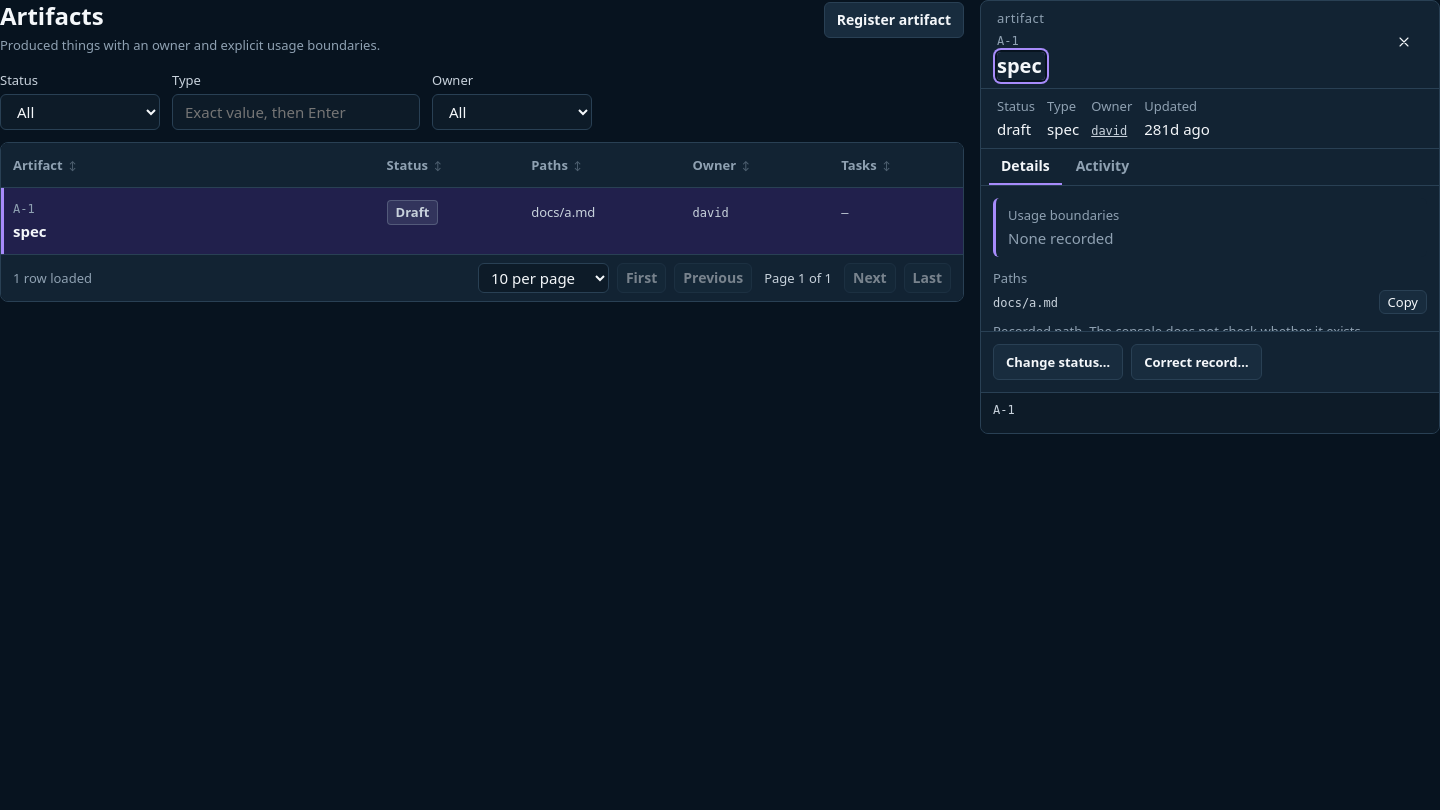
Scenario: the artifact status dialog › returns focus to its opener after Cancel
Click the button "Change status…".
click(1058, 362)  # box [993, 344, 1123, 380]
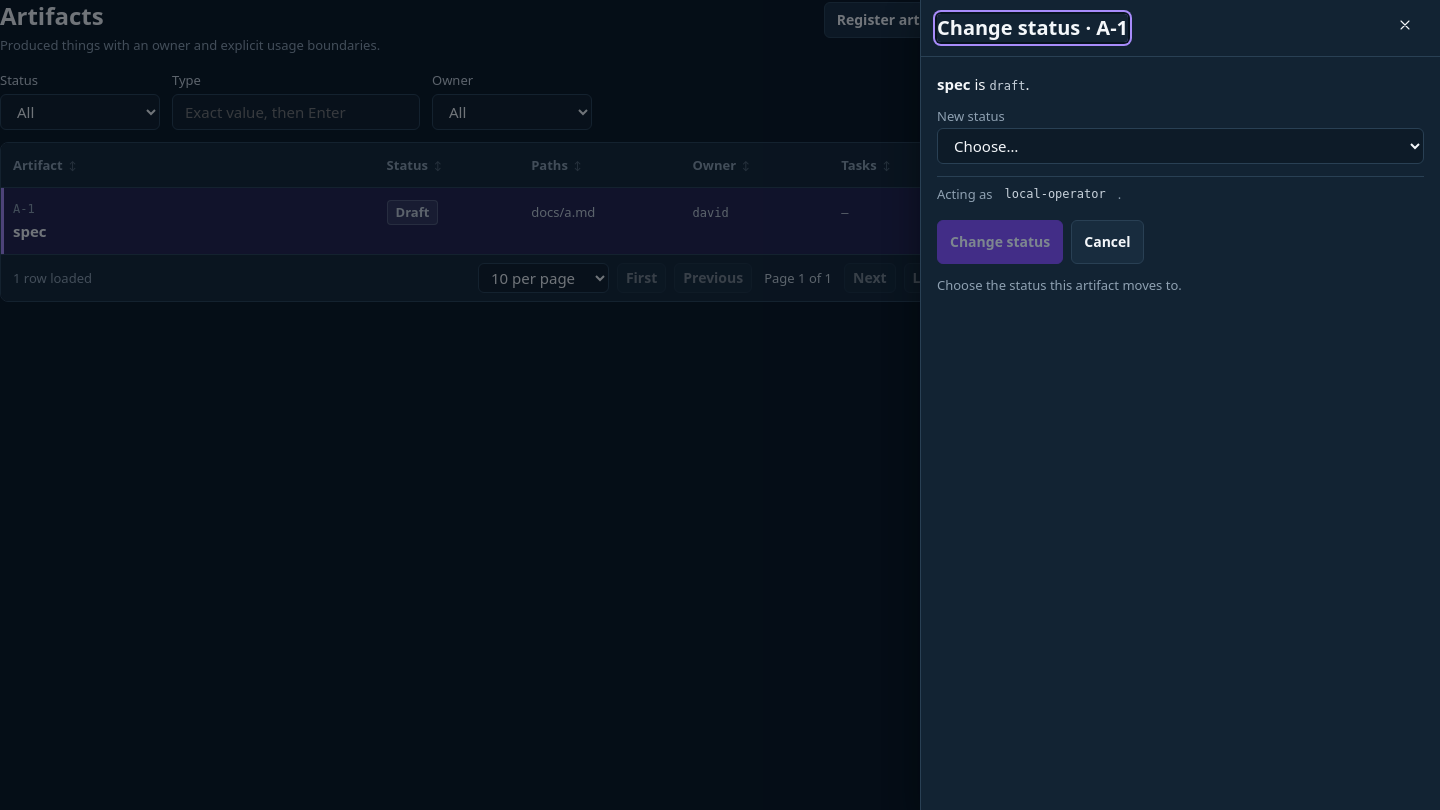
Click the button "Cancel".
click(1107, 242)  # box [1071, 220, 1144, 264]
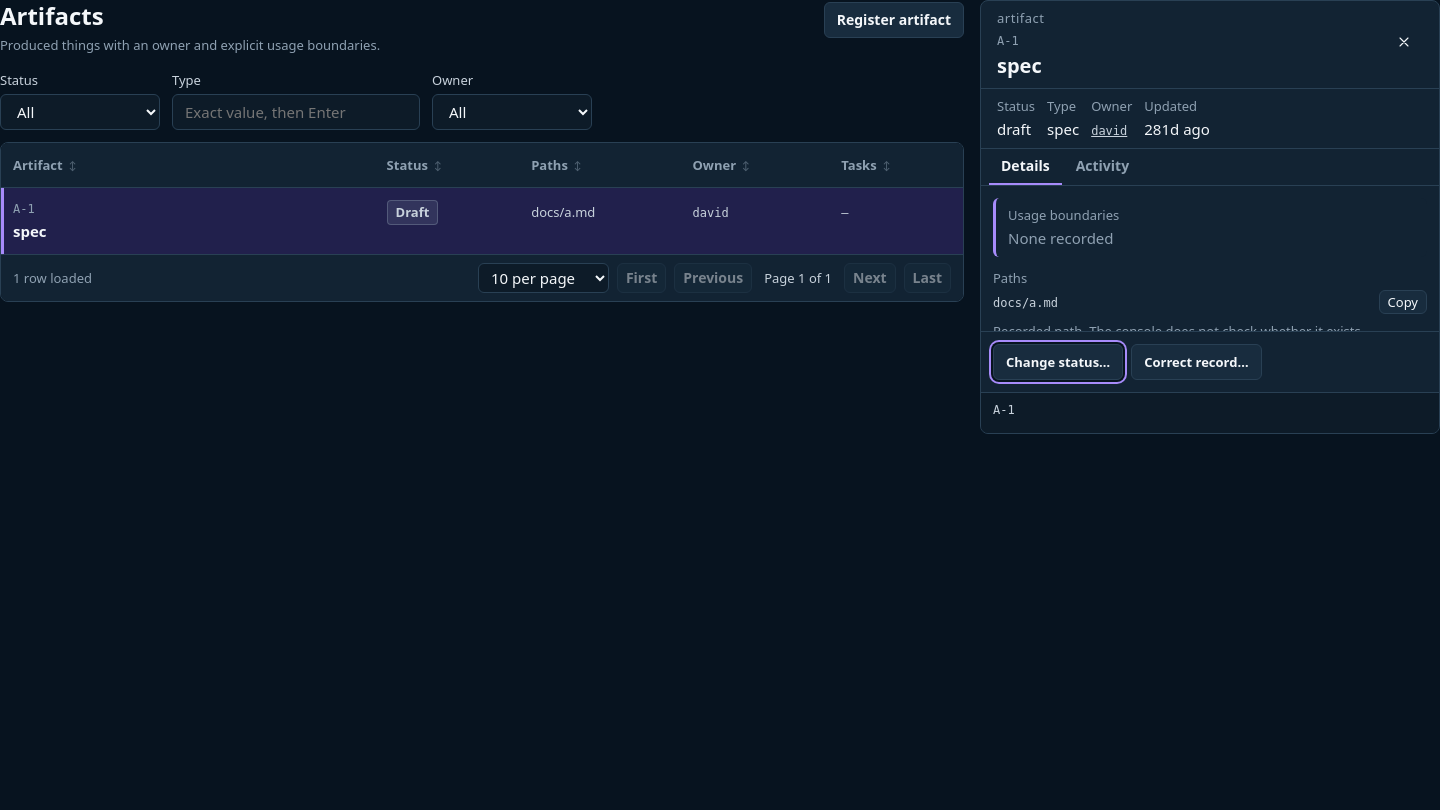
Now the dialog is gone
